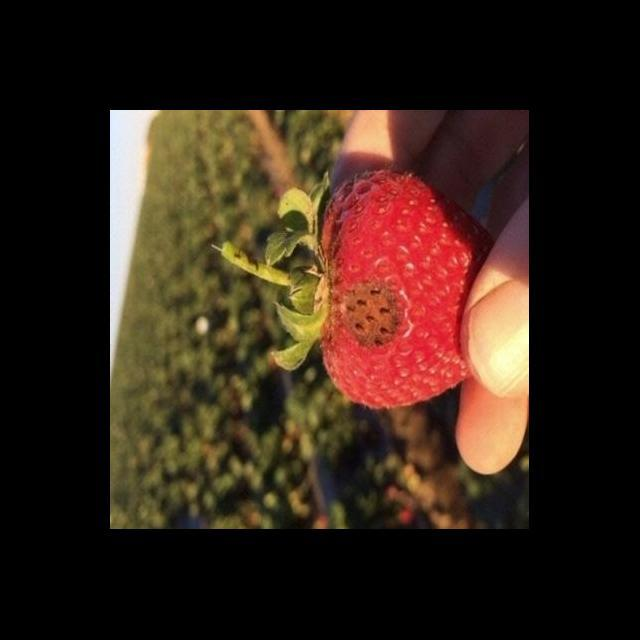Anthracnose Fruit Rot: (339, 282, 409, 349)
